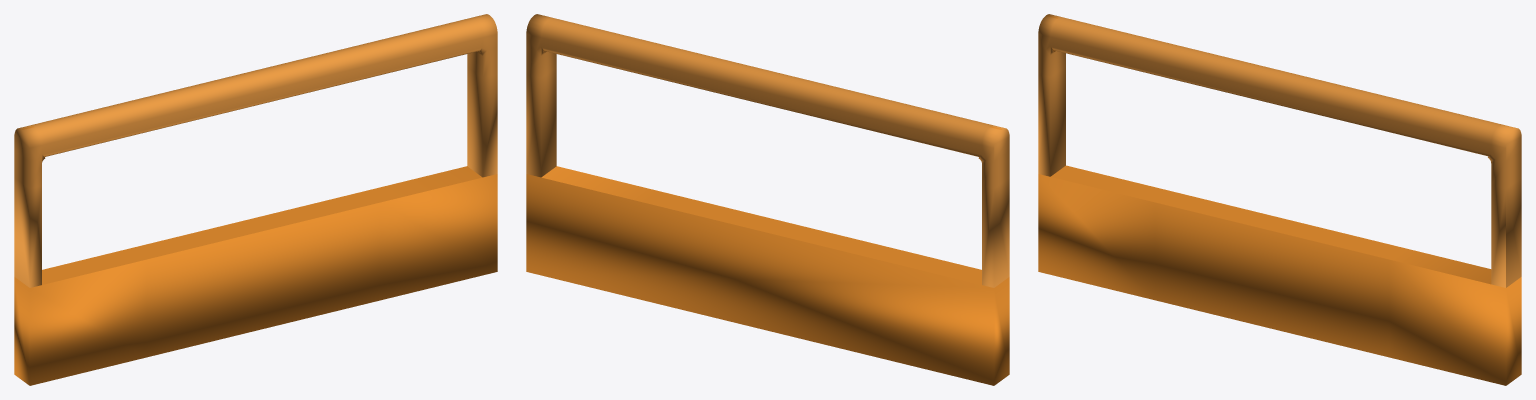
File: railing_1.glb
3 renders of one model, left to right at view 1: azimuth 30°, elevation 25°; view 2: azimuth 150°, elevation 25°; view 3: azimuth 330°, elevation 25°, orthographic.
Parts seen in each view (by area): view 1: Cube.001; view 2: Cube.001; view 3: Cube.001.
Boxes of the visible parts, <box> form: Cube.001: <box>14,14,497,385</box>; Cube.001: <box>526,14,1009,385</box>; Cube.001: <box>1038,14,1521,385</box>.
Bounding box in the file's own units: 2 × 1.02 × 0.1154.
